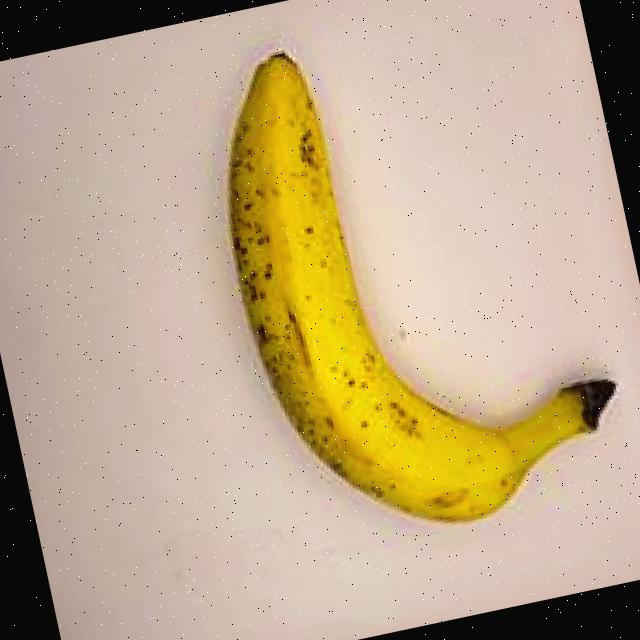Overripe: (143, 0, 640, 585)
